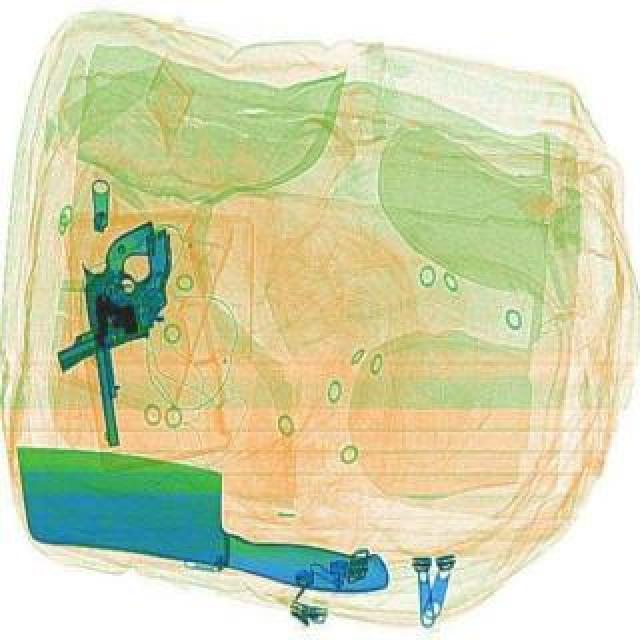gun: (24, 214, 208, 394), (64, 226, 160, 456)
knife: (0, 436, 400, 598)
